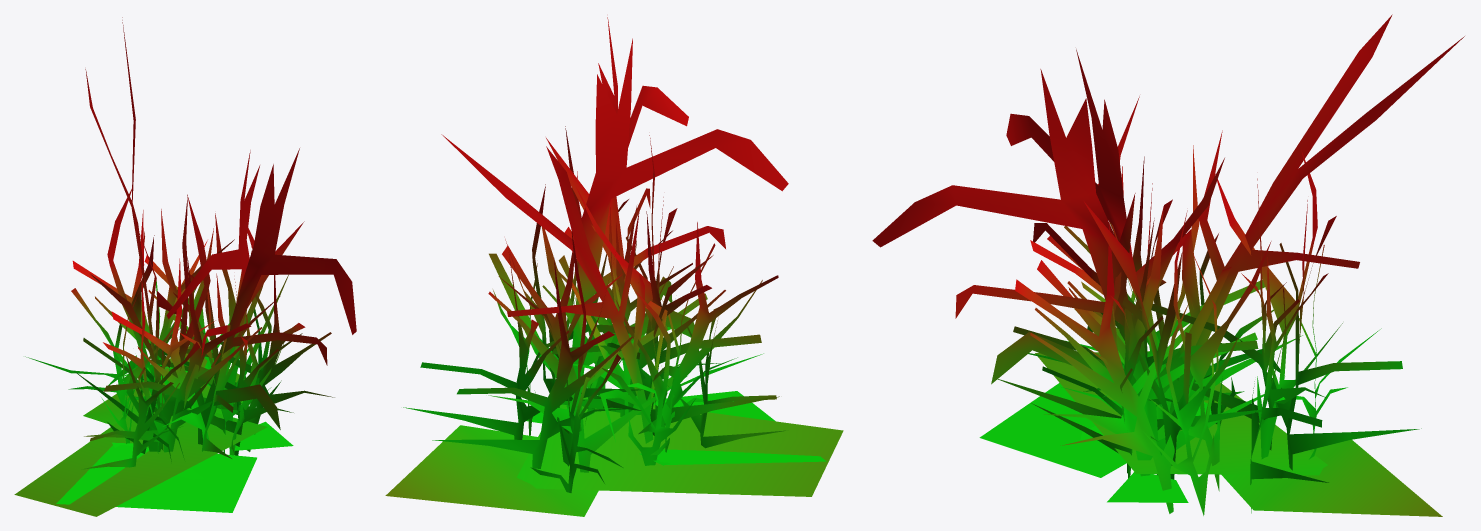
The model's file is Kikuyu Grass_LOD4_Var12_wiljearqx.fbx.
3 views of the same model, side by side, from view 1: azimuth 30°, elevation 25°; view 2: azimuth 150°, elevation 25°; view 3: azimuth 270°, elevation 25° (orthographic). The views are drawn at different scales.
Visible parts, largest first — view 1: _ajqh_Var12_LOD4; view 2: _ajqh_Var12_LOD4; view 3: _ajqh_Var12_LOD4.
Part boxes in pixels (<box>): _ajqh_Var12_LOD4: <box>14,17,356,516</box>; _ajqh_Var12_LOD4: <box>385,17,843,516</box>; _ajqh_Var12_LOD4: <box>872,14,1464,516</box>.
Bounding box in the file's own units: 34.41 × 39.79 × 44.5.
